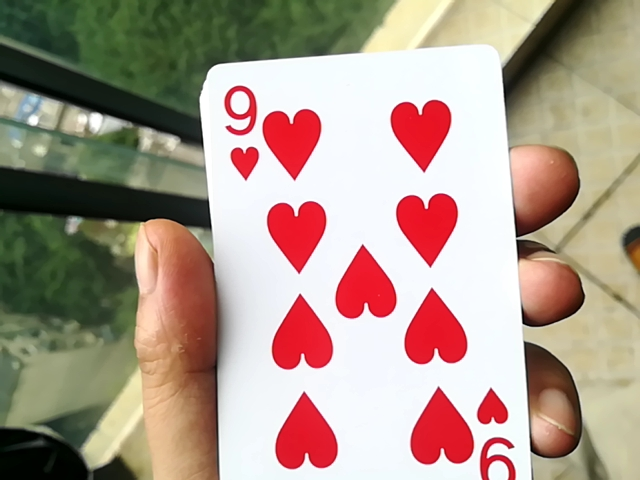hx 9: (189, 43, 536, 480)
